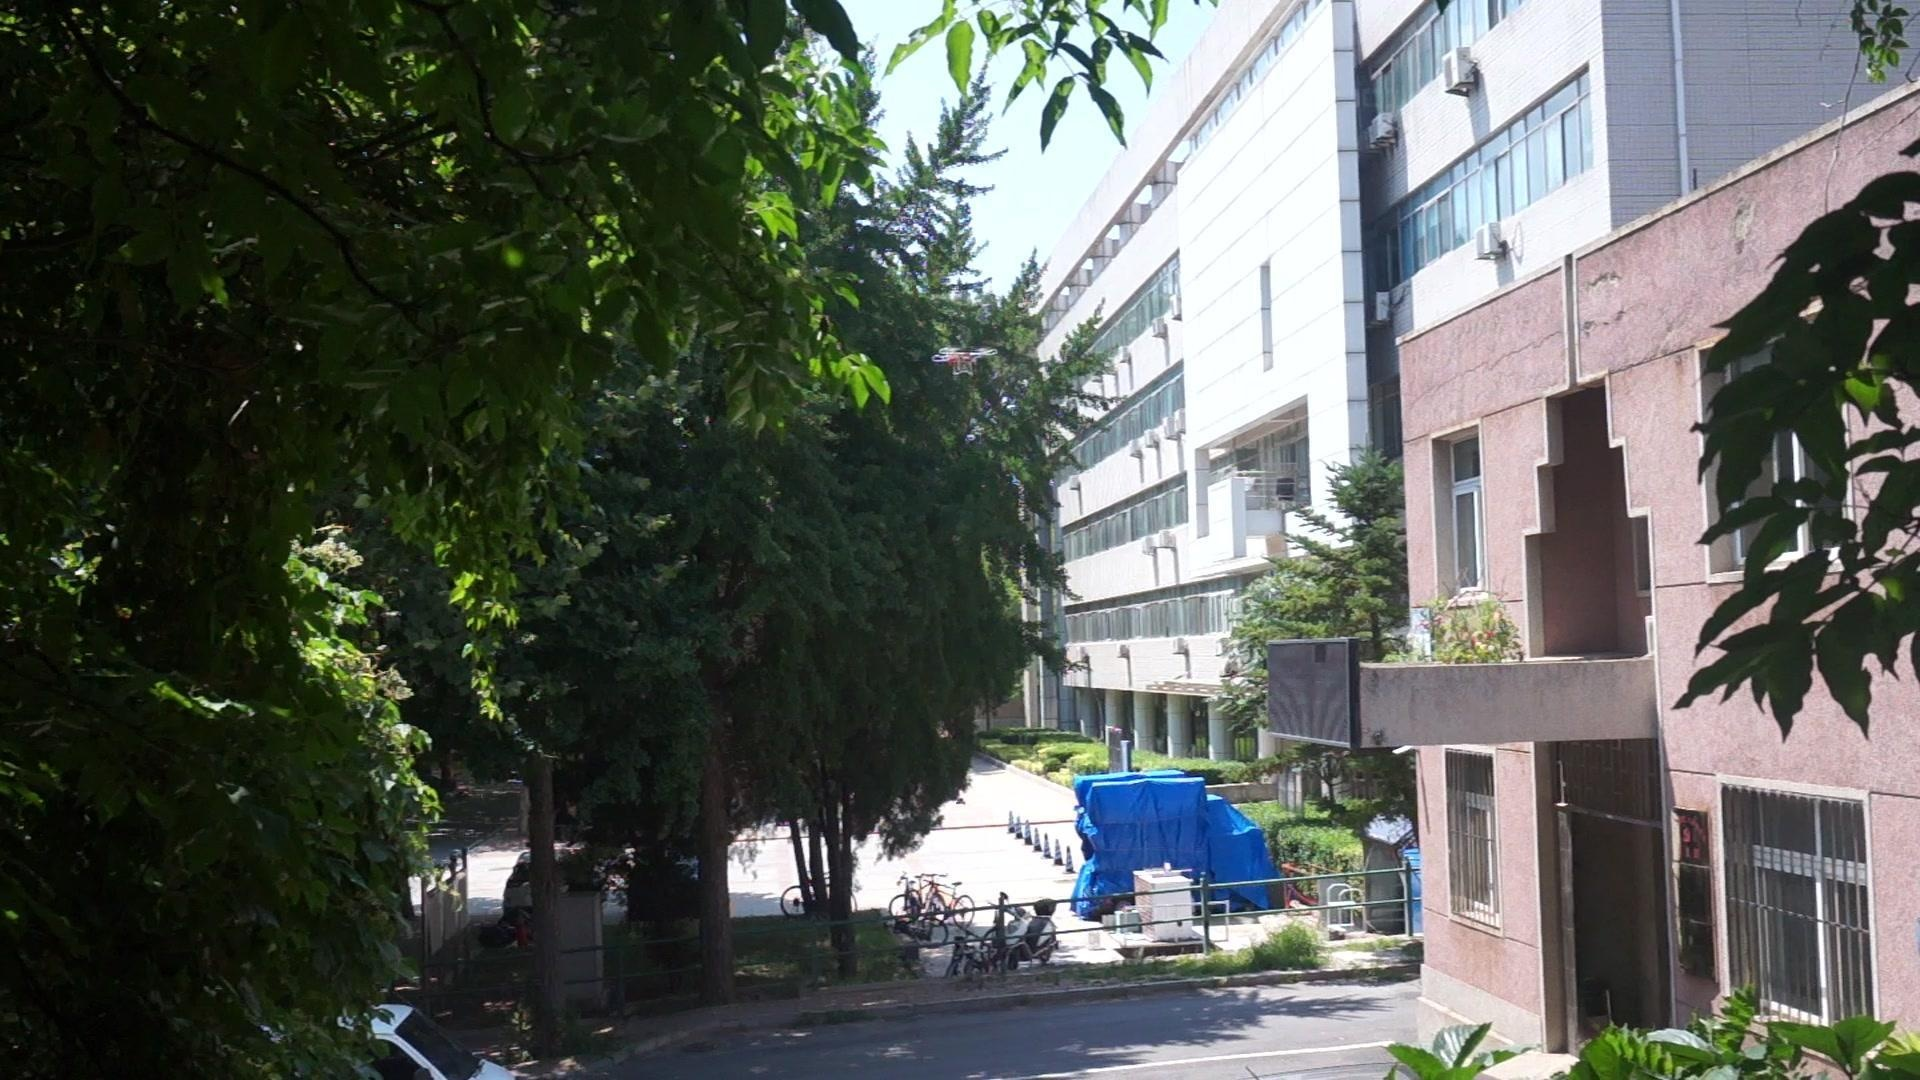UAV: (931, 348, 1000, 378)
